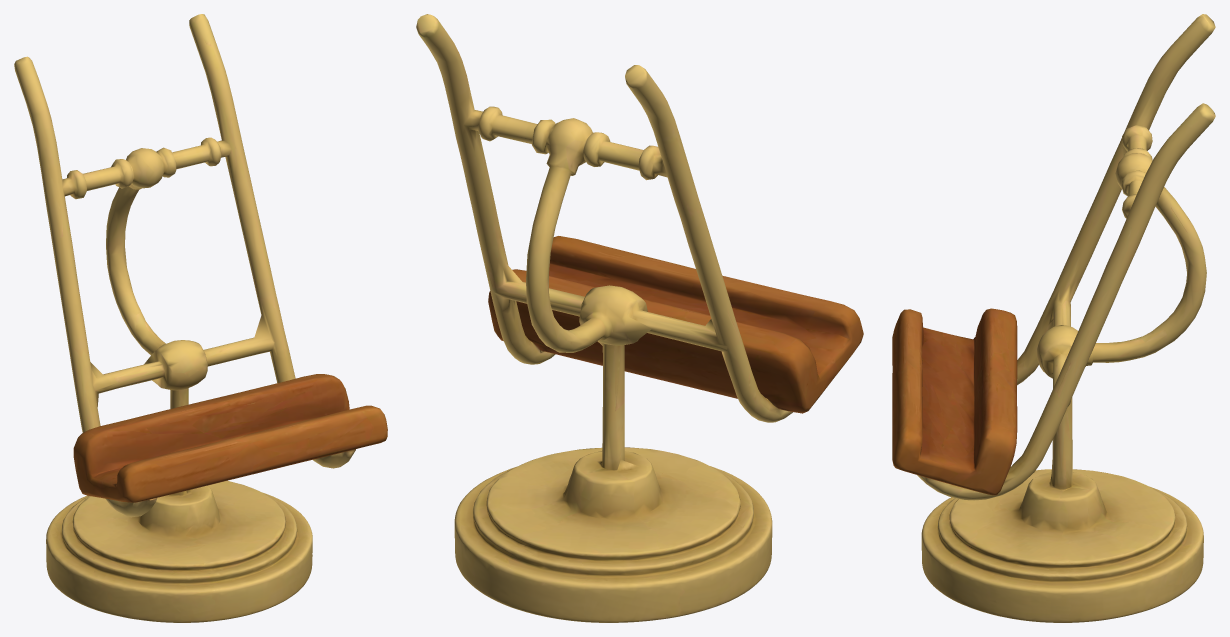
The model's file is featured-stand.glb.
3 renders of one model, left to right at view 1: azimuth 30°, elevation 25°; view 2: azimuth 150°, elevation 25°; view 3: azimuth 270°, elevation 25°, orthographic. The views are drawn at different scales.
Visible parts, largest first — view 1: tripo_node_cc97dcf7-a0ba-4823-846d-9f53306663b8; view 2: tripo_node_cc97dcf7-a0ba-4823-846d-9f53306663b8; view 3: tripo_node_cc97dcf7-a0ba-4823-846d-9f53306663b8.
Part boxes in pixels (x1,y1,x2,y2): tripo_node_cc97dcf7-a0ba-4823-846d-9f53306663b8: (14,14,387,622); tripo_node_cc97dcf7-a0ba-4823-846d-9f53306663b8: (416,14,863,622); tripo_node_cc97dcf7-a0ba-4823-846d-9f53306663b8: (892,14,1215,622).
Size of the model in its own units: 0.5564 by 0.9808 by 0.5685.
1 material, 1 textured.
